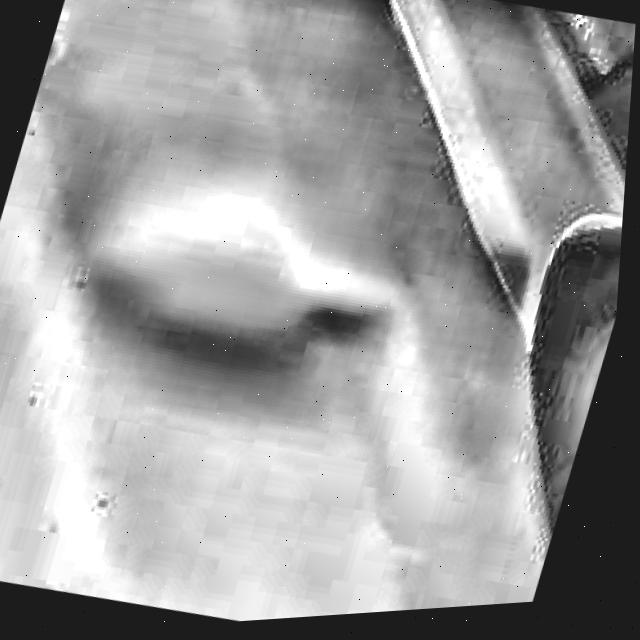door_dent: (63, 162, 422, 437)
